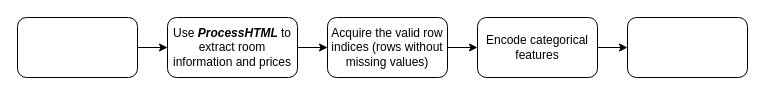
The diagram is 765 pixels wide and 95 high, and some of its shapes have lost their labels. Each missing label, with the box of its shape:
Input raw dataset: (16, 16, 138, 78)
Obtain the room information and categorical keyword using valid indices: (626, 16, 748, 78)
